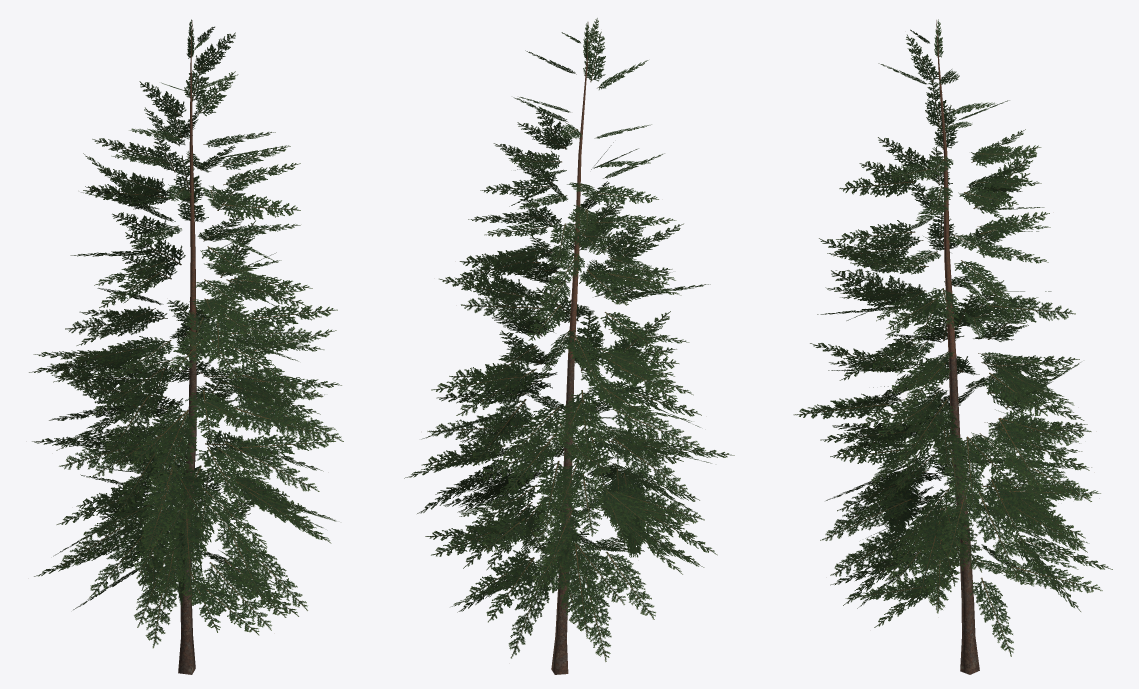
Rendered from spruce_b_LOD2.glb.
3 views of the same model, side by side, from view 1: azimuth 30°, elevation 25°; view 2: azimuth 150°, elevation 25°; view 3: azimuth 270°, elevation 25° (orthographic). The views are drawn at different scales.
Parts seen in each view (by area): view 1: Spruce_B_LOD2_Foliage, Spruce_B_LOD2_Bark; view 2: Spruce_B_LOD2_Foliage, Spruce_B_LOD2_Bark; view 3: Spruce_B_LOD2_Foliage, Spruce_B_LOD2_Bark.
Part boxes in pixels (<box>): Spruce_B_LOD2_Foliage: <box>29,19,343,648</box>; Spruce_B_LOD2_Bark: <box>178,20,196,674</box>; Spruce_B_LOD2_Foliage: <box>404,18,734,661</box>; Spruce_B_LOD2_Bark: <box>551,22,588,674</box>; Spruce_B_LOD2_Foliage: <box>793,19,1112,656</box>; Spruce_B_LOD2_Bark: <box>936,20,979,674</box>.
Bounding box in the file's own units: 10.56 × 23.11 × 11.23.
2 materials, 2 textured.
